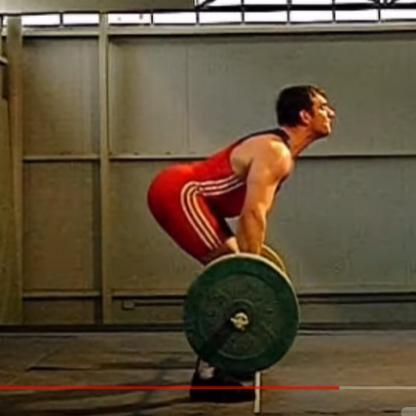barbell: (182, 238, 301, 377)
